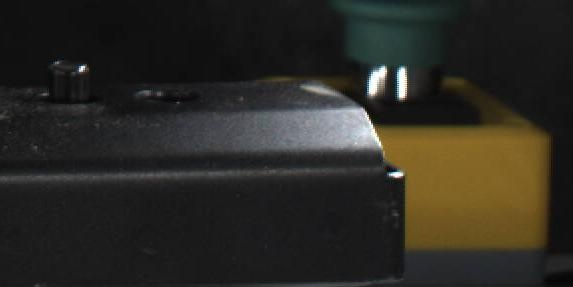screw: (38, 53, 101, 109)
